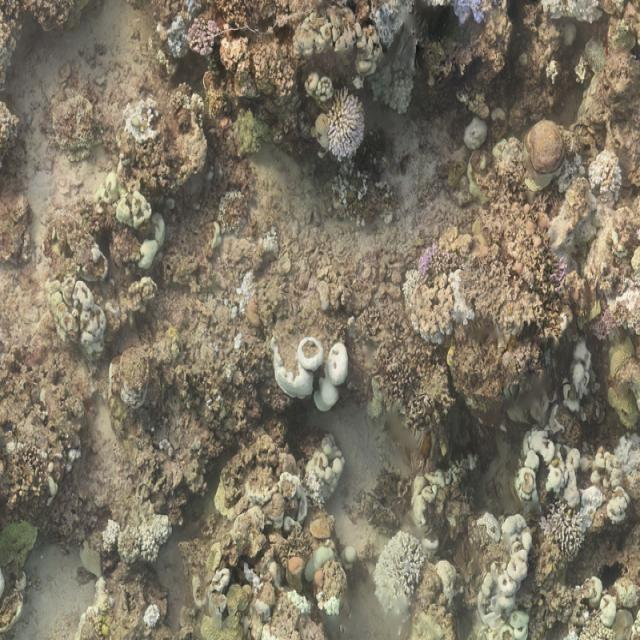Bleached Coral: (284, 336, 354, 426), (329, 81, 371, 187), (373, 529, 427, 609), (367, 57, 422, 134), (102, 511, 170, 569), (535, 499, 586, 565), (305, 439, 350, 509), (445, 262, 480, 338), (585, 146, 621, 200), (164, 1, 187, 63), (140, 600, 163, 630)
